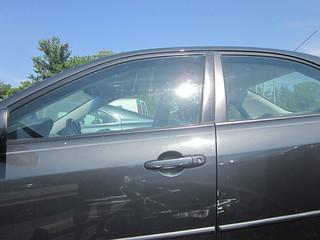doorouter-dent: (5, 70, 210, 239), (211, 54, 319, 239)
